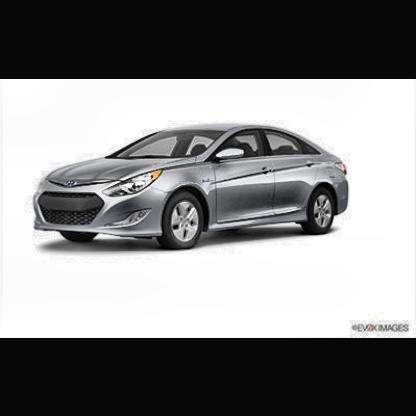Hyundai Sonata Hybrid Sedan 2012: (37, 123, 350, 251)
